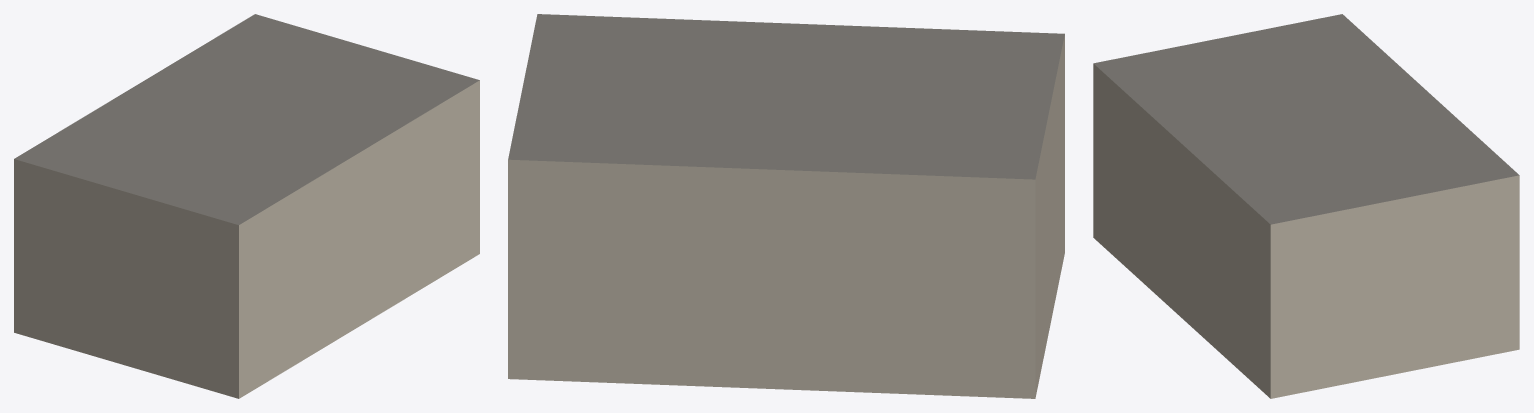
3 renders of one model, left to right at view 1: azimuth 30°, elevation 25°; view 2: azimuth 150°, elevation 25°; view 3: azimuth 270°, elevation 25°, orthographic. The views are drawn at different scales.
Parts seen in each view (by area): view 1: HP-w1235754995; view 2: HP-w1235754995; view 3: HP-w1235754995.
Part boxes in pixels (left/top/right/bottom): HP-w1235754995: left=14, top=14, right=479, bottom=398; HP-w1235754995: left=508, top=14, right=1064, bottom=398; HP-w1235754995: left=1093, top=14, right=1519, bottom=398.
Size of the model in its own units: 46.64 by 18 by 39.89.
